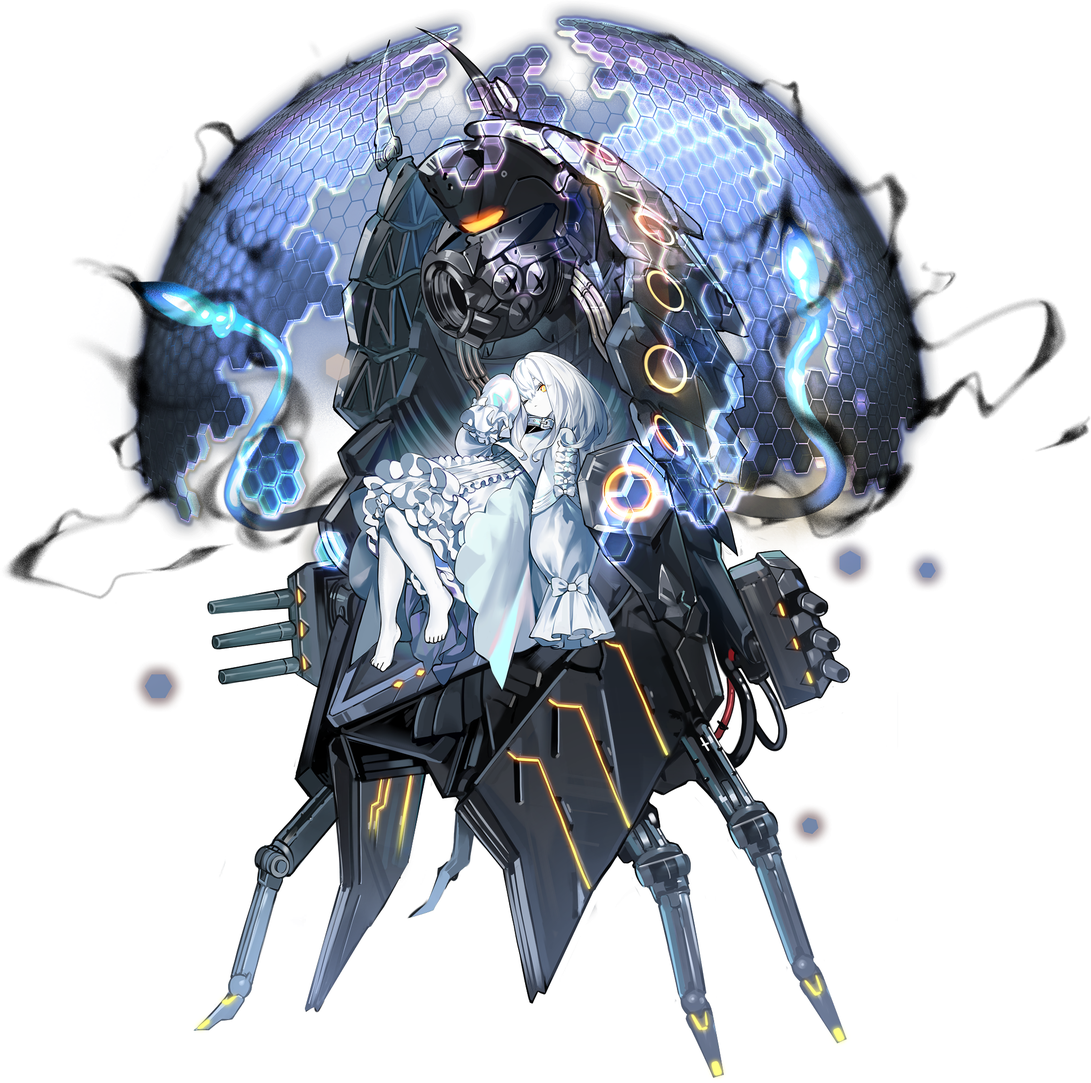person: (443, 315, 818, 1081)
